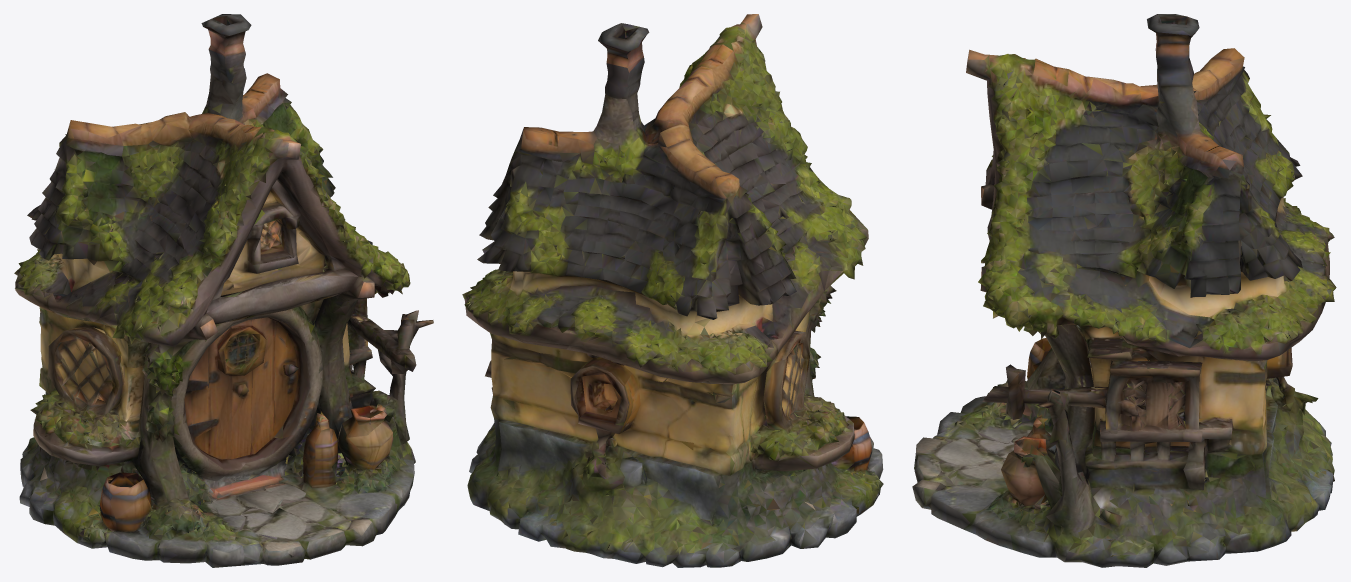
The model's file is Whimsical_Hobbit_Dwel.glb.
3 renders of one model, left to right at view 1: azimuth 30°, elevation 25°; view 2: azimuth 150°, elevation 25°; view 3: azimuth 270°, elevation 25°, orthographic. The views are drawn at different scales.
Parts seen in each view (by area): view 1: Whimsical_Hobbit_Dwel; view 2: Whimsical_Hobbit_Dwel; view 3: Whimsical_Hobbit_Dwel.
Boxes of the visible parts, x1,y1,x2,y2 form: Whimsical_Hobbit_Dwel: (14,14,433,567); Whimsical_Hobbit_Dwel: (462,14,883,567); Whimsical_Hobbit_Dwel: (912,14,1336,567).
Size of the model in its own units: 1.58 by 1.91 by 1.54.
Materials: 1 (1 with a texture image).
